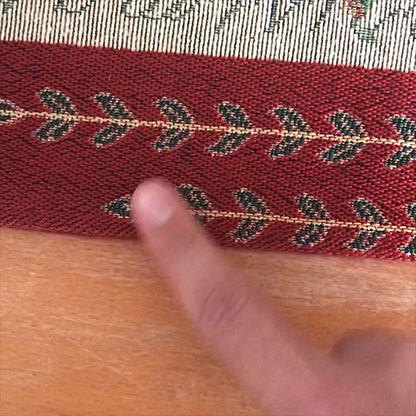fingertip: (119, 169, 196, 245)
